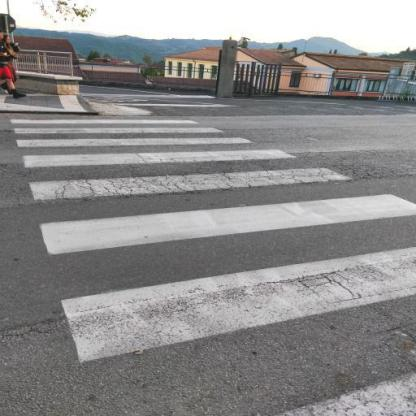crosswalk: (11, 148, 369, 202), (2, 114, 232, 138)
